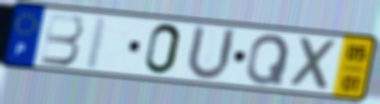0: (143, 22, 182, 77)
B: (38, 11, 85, 68)
I: (82, 14, 111, 72)
Q: (244, 32, 292, 86)
U: (183, 23, 239, 83)
X: (289, 34, 342, 93)
